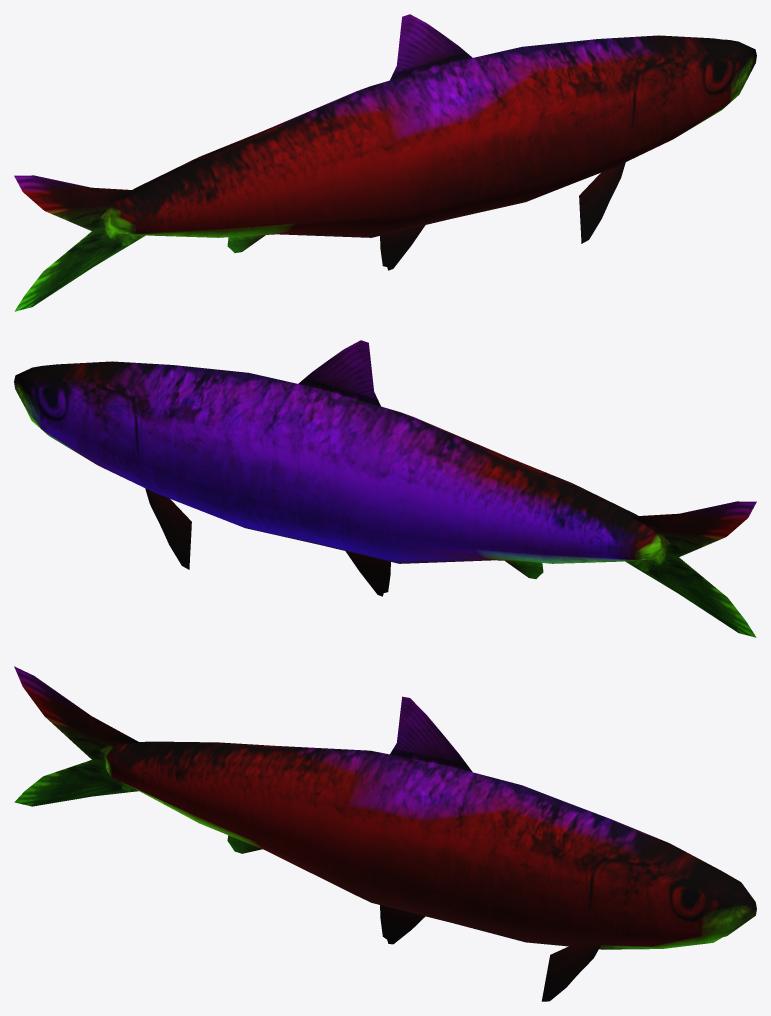
File: european_sardine.glb
3 renders of one model, top to bottom at view 1: azimuth 30°, elevation 25°; view 2: azimuth 150°, elevation 25°; view 3: azimuth 330°, elevation 25°, orthographic.
Visible parts, largest first — view 1: EuropeanSardine; view 2: EuropeanSardine; view 3: EuropeanSardine.
Part boxes in pixels (x1,y1,x2,y2): EuropeanSardine: [14, 14, 756, 311]; EuropeanSardine: [14, 340, 756, 637]; EuropeanSardine: [14, 666, 756, 1001].
Size of the model in its own units: 1 by 0.3245 by 0.1163.
1 material, 1 textured.
